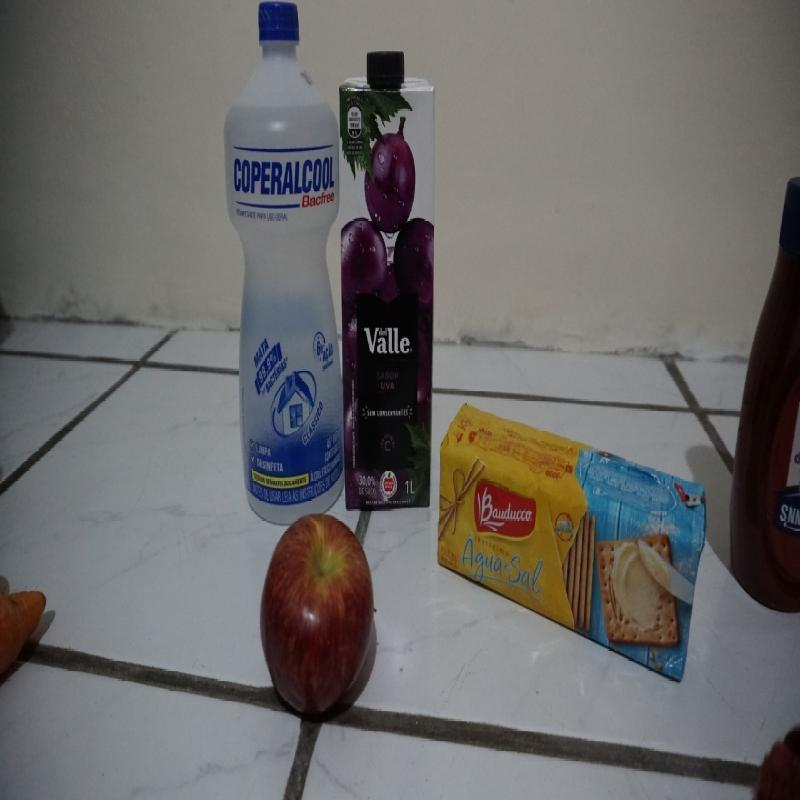Alcohol Bottle: (224, 1, 339, 508)
Apple: (253, 513, 376, 711)
Carrot: (1, 570, 46, 681)
Cracker: (438, 402, 710, 678)
Ketchup: (733, 177, 800, 617)
